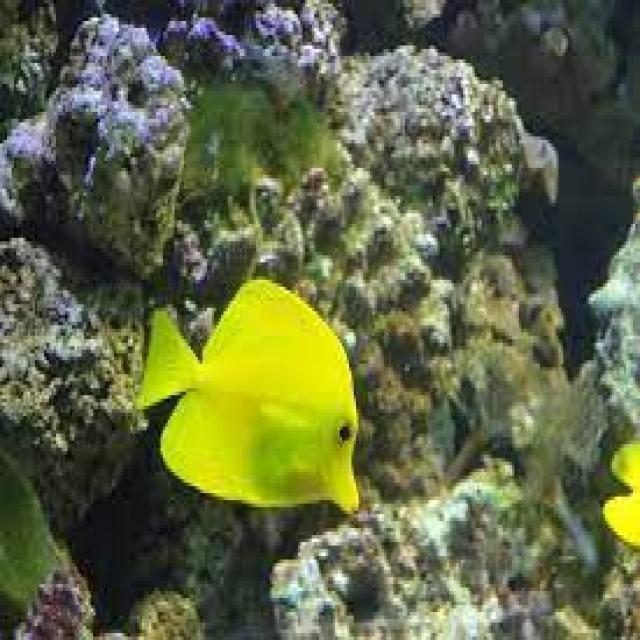TangFish: (132, 277, 365, 514)
